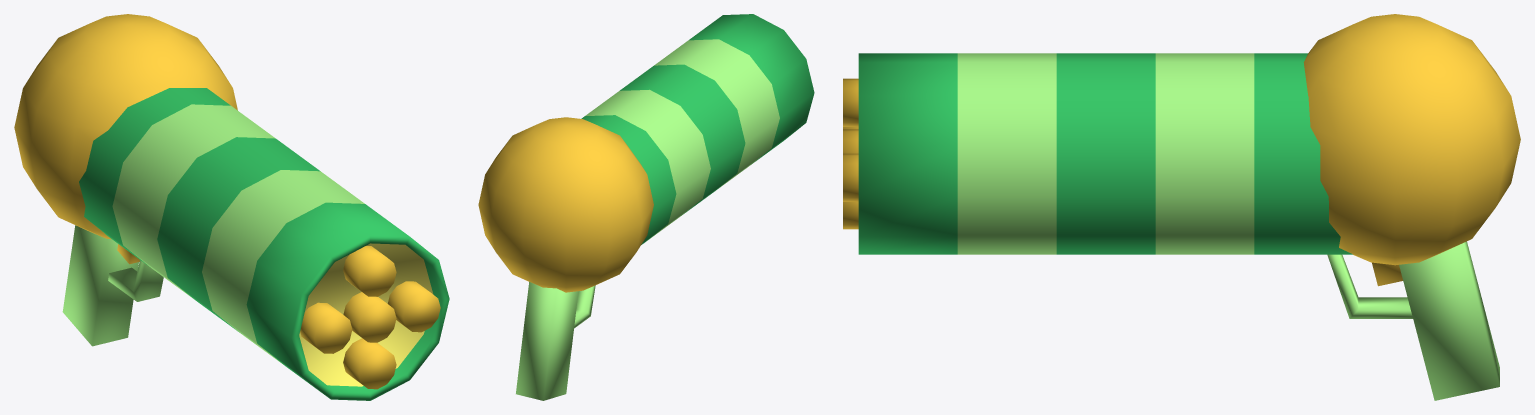
Rendered from PistoletBulle.fbx.
3 views of the same model, side by side, from view 1: azimuth 30°, elevation 25°; view 2: azimuth 150°, elevation 25°; view 3: azimuth 270°, elevation 25° (orthographic). The views are drawn at different scales.
Visible parts, largest first — view 1: PistoletBulle; view 2: PistoletBulle; view 3: PistoletBulle.
Boxes of the visible parts, bbox=[...] form: PistoletBulle: bbox=[14, 14, 449, 400]; PistoletBulle: bbox=[478, 14, 814, 400]; PistoletBulle: bbox=[843, 14, 1520, 400].
Bounding box in the file's own units: 84.17 × 227 × 135.
